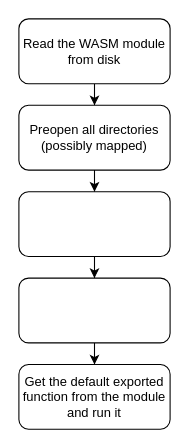
Some shapes in this 189 by 448 pixel diagram are drawn without their labels. The centre of each missing label's shape, as x and y in pixels:
Load the module and link it with the store: [94,310]
Setup an engine, a linker and a store (to be used as a "memory"): [94,223]
